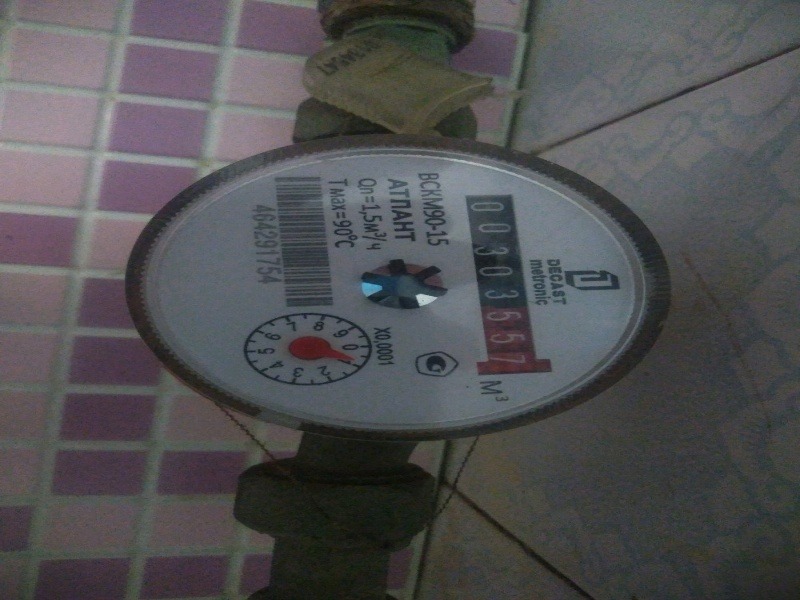meter: (461, 189, 551, 389)
